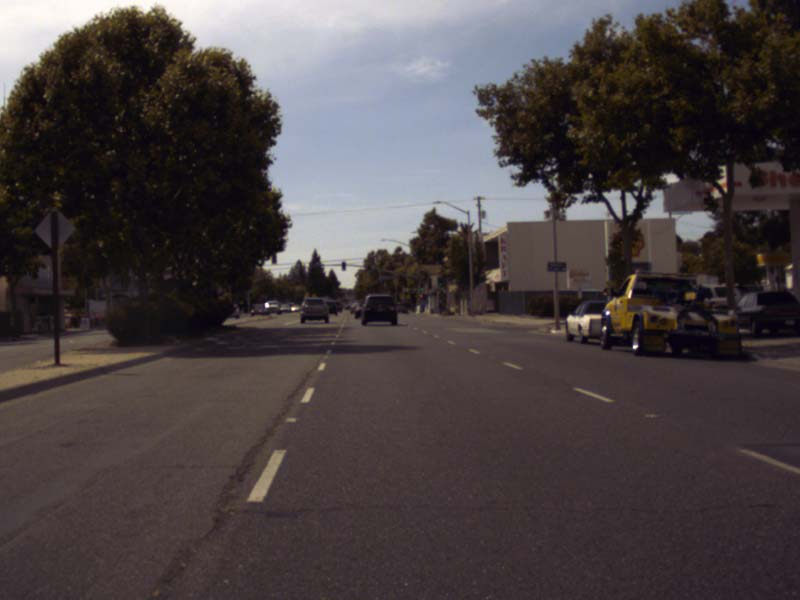Green: (366, 265, 371, 274), (437, 278, 442, 286), (419, 284, 423, 291)
